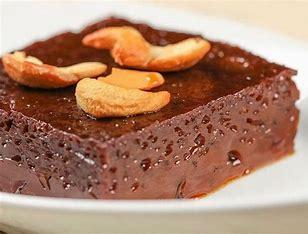Watalappam: (2, 7, 290, 204)
